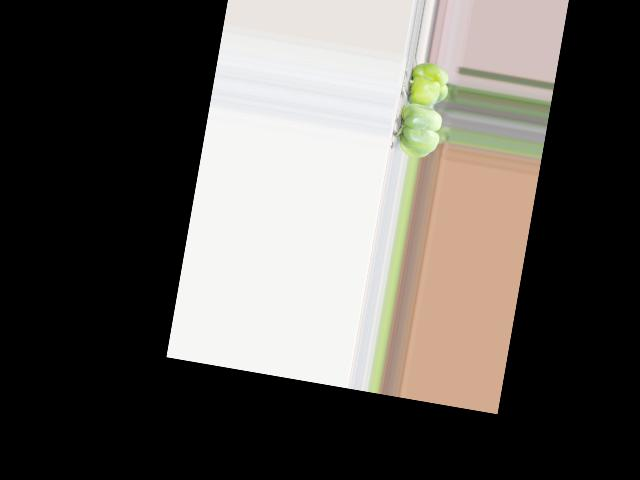bell_pepper: (403, 58, 454, 110)
